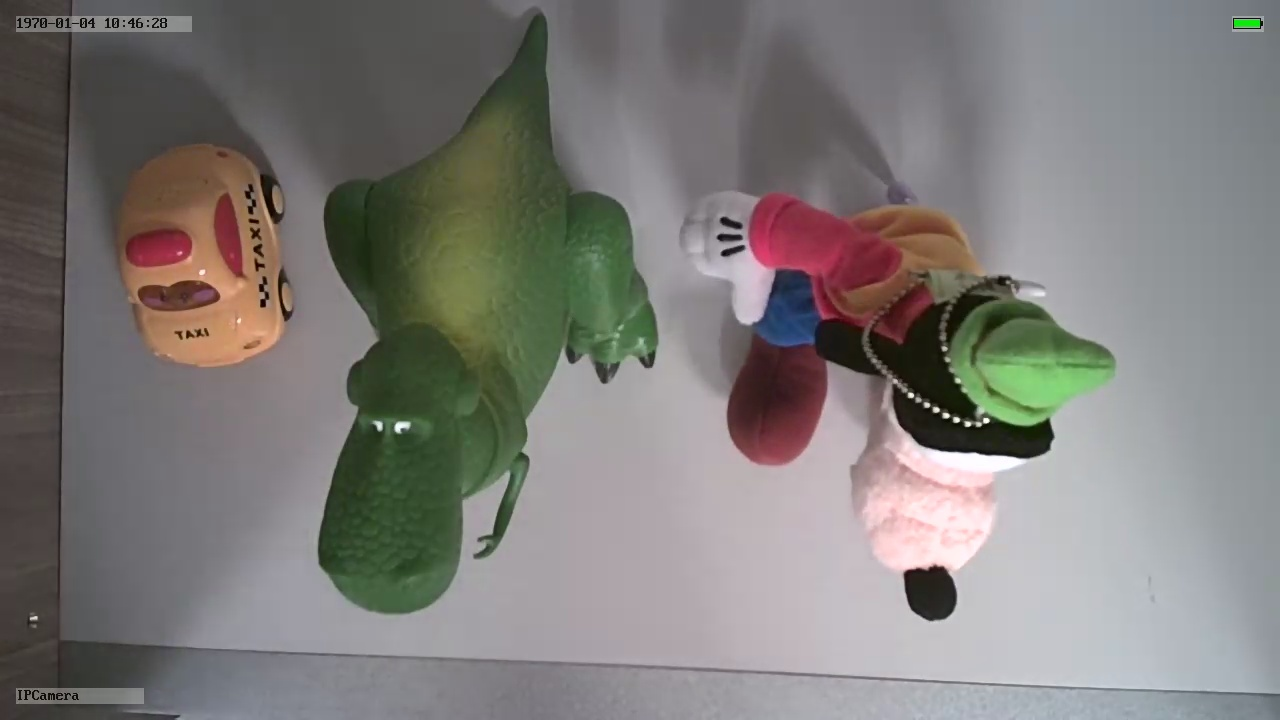car: (112, 135, 298, 373)
goofy: (675, 183, 1119, 627)
rex: (317, 83, 656, 616)
